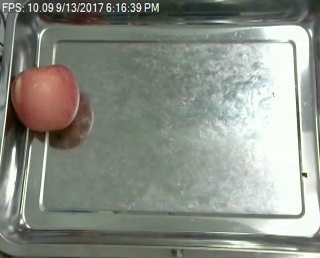Apple: (10, 63, 79, 131)
